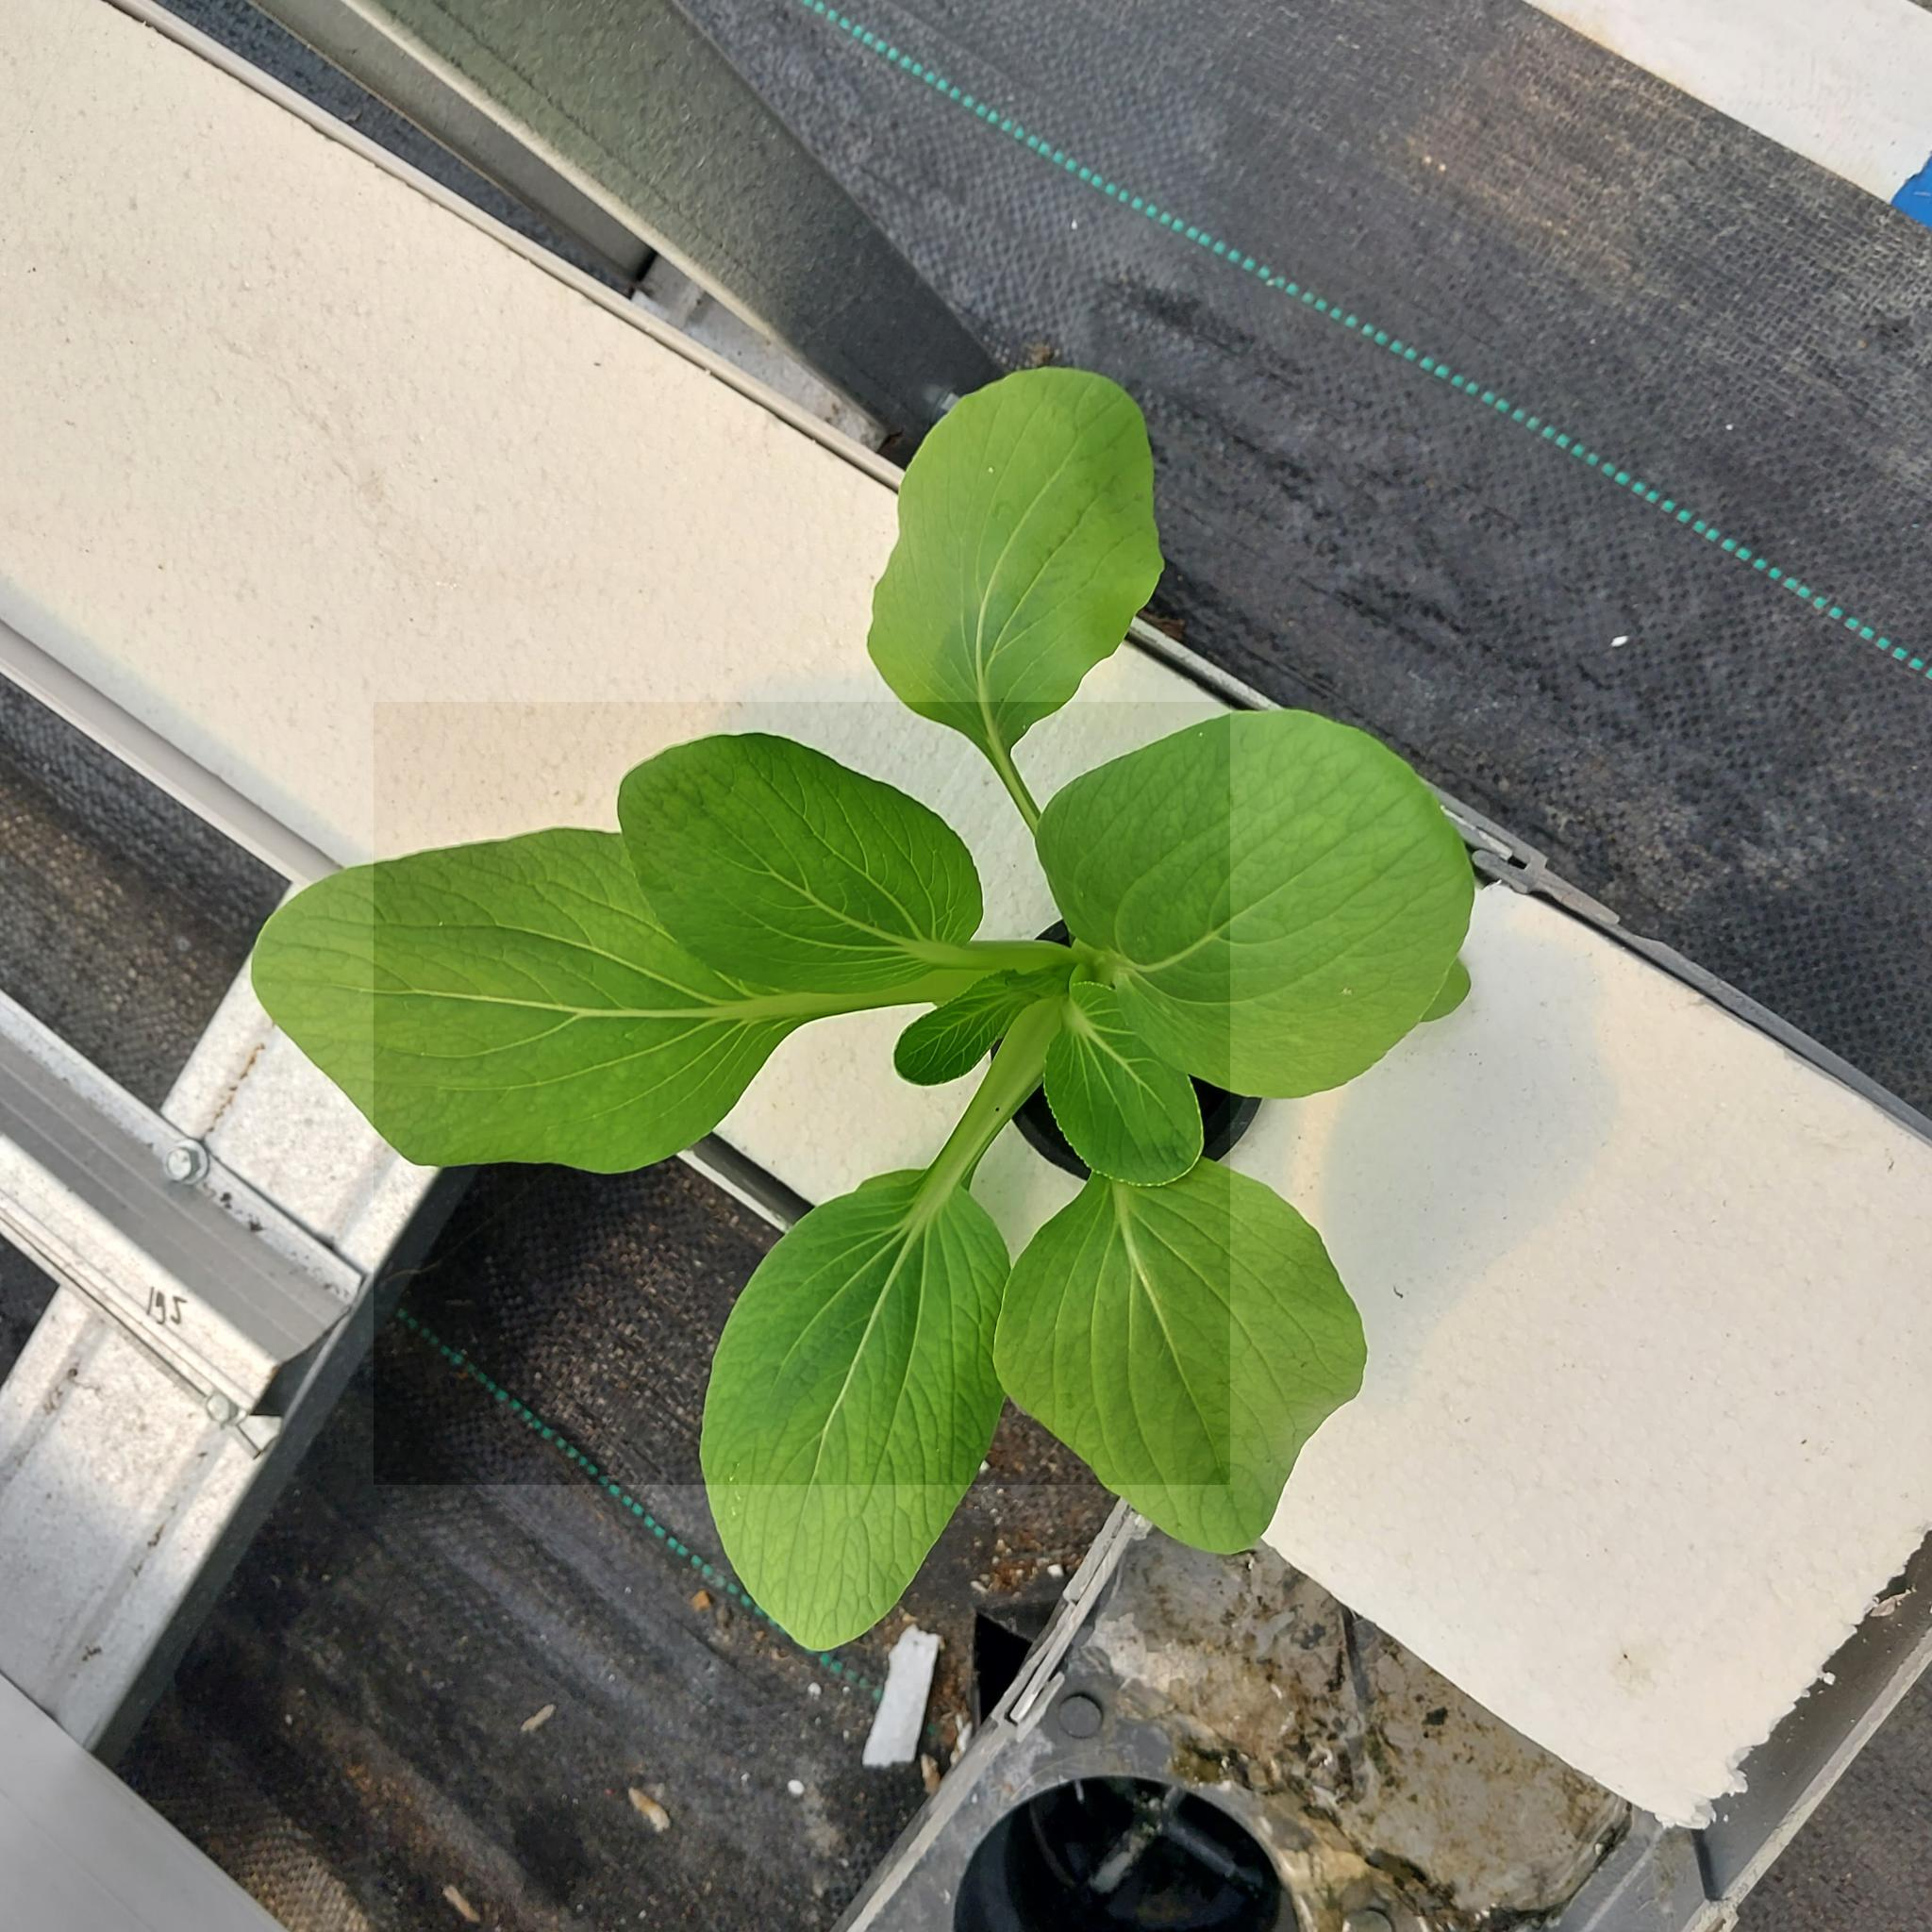Healthy-Pechay: (1035, 715, 1479, 1109), (699, 1136, 1003, 1658), (998, 1141, 1361, 1571), (874, 361, 1155, 805), (616, 734, 996, 1023), (361, 978, 782, 1113), (1035, 984, 1192, 1189), (915, 1012, 1054, 1201), (356, 970, 741, 1019), (1062, 908, 1242, 993)
